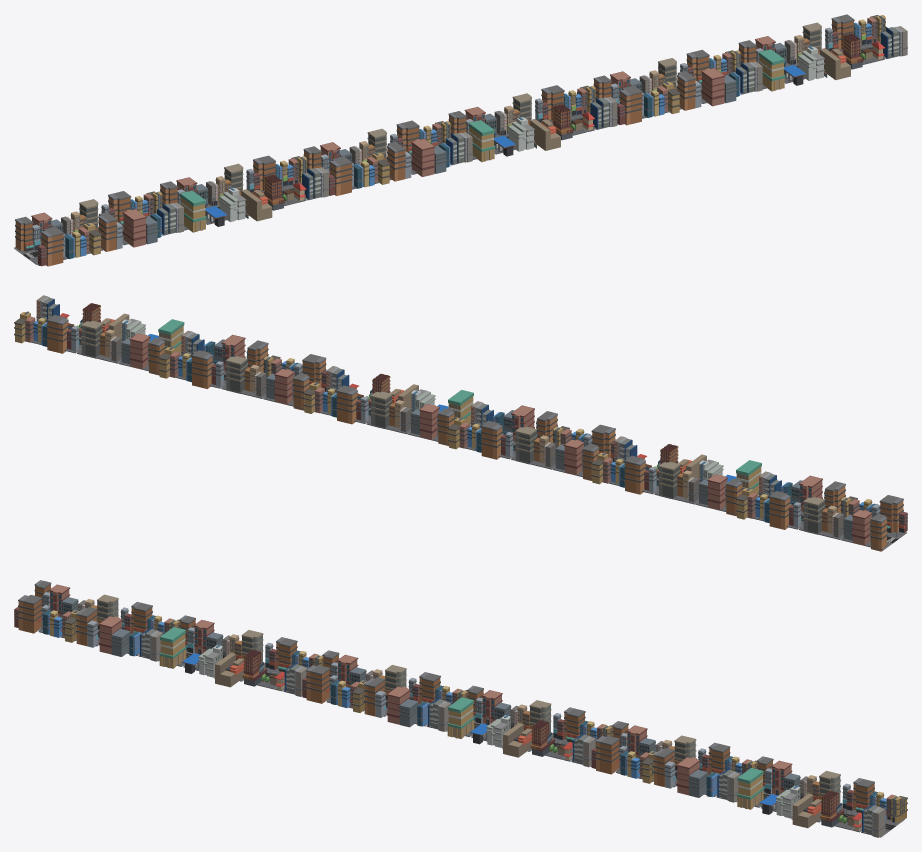
Rendered from Title_01_01.fbx.
The picture shows the model from 3 angles, top to bottom: view 1: azimuth 30°, elevation 25°; view 2: azimuth 150°, elevation 25°; view 3: azimuth 330°, elevation 25°; orthographic projection.
Visible parts, largest first — view 1: group1_1; view 2: group1_1; view 3: group1_1.
Boxes of the visible parts, x1,y1,x2,y2 form: group1_1: (14, 14, 907, 266); group1_1: (14, 295, 907, 551); group1_1: (14, 580, 907, 837).
Bounding box in the file's own units: 15792 × 574 × 1154.
